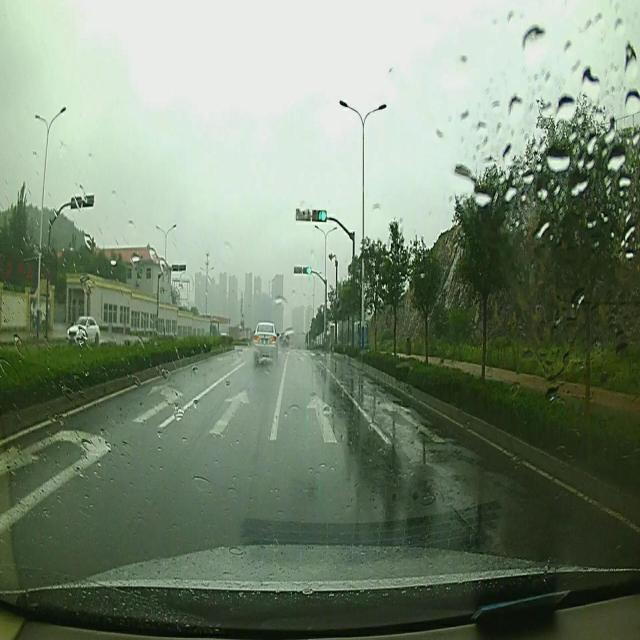car: (252, 320, 276, 364), (66, 316, 101, 345)
